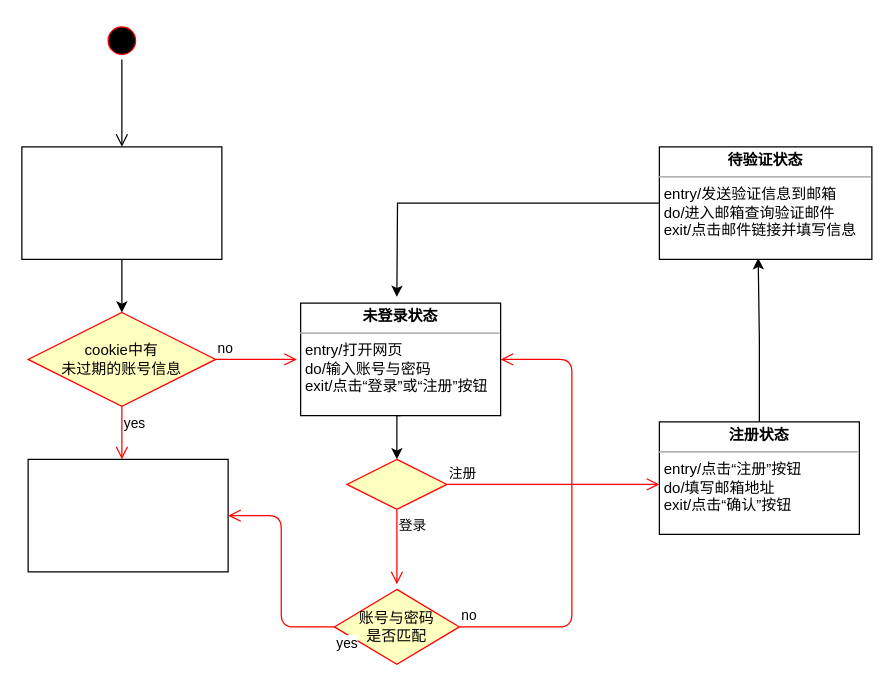
Some shapes in this 894 by 686 pixel diagram are drawn without their labels. Here are the shapes that lost their labels. From the top down, the centre of each, then its label:
At point 121,202: "检查状态 entry/网页加载完成 do/检查cookie exit/得到结果".
At point 127,515: "已登录状态 entry/登录 do/进行各种操作 exit/点击“登出”按钮".
